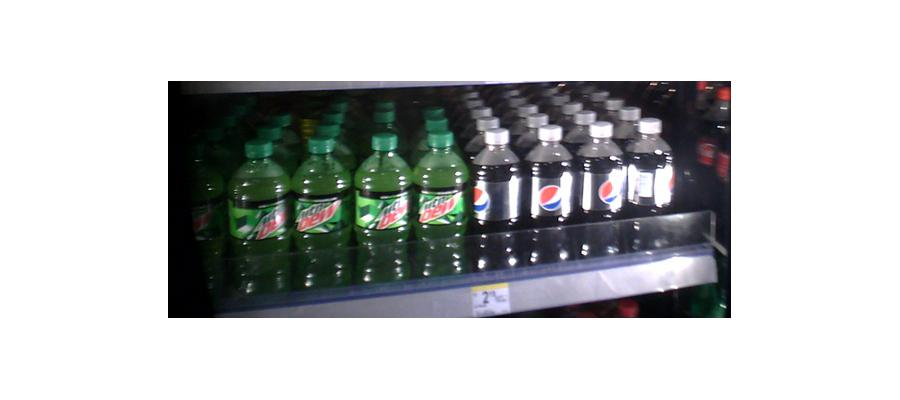bottle: (231, 136, 289, 298), (292, 133, 350, 290), (353, 131, 412, 284), (414, 121, 469, 280), (472, 130, 523, 269), (526, 127, 575, 262), (574, 125, 625, 254), (626, 123, 677, 224)
